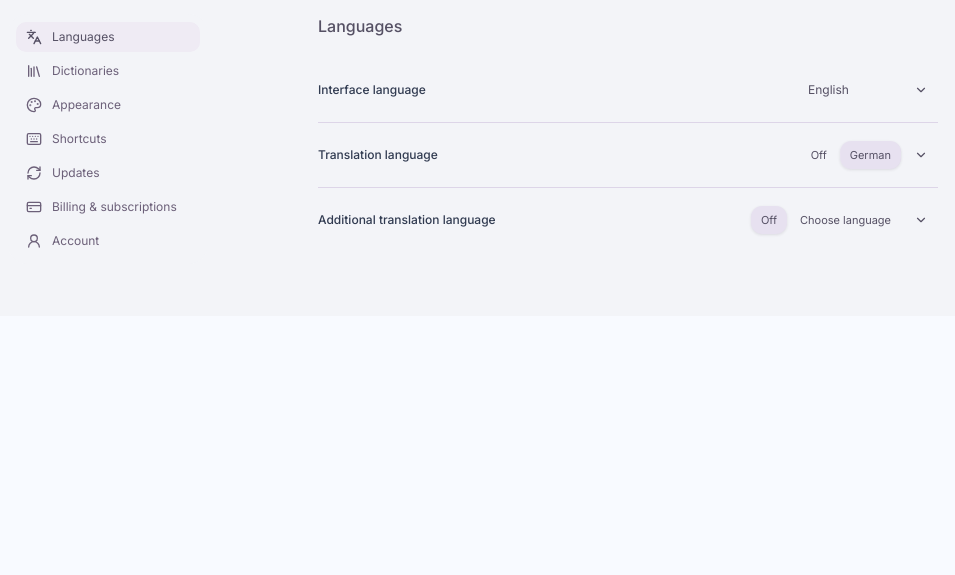
approved sections and accessible controls follow the en catalog
Expected: the button with aria-label "Interface language" is shown, [798,76,938,104]
What coordinates should you click on to do the following:
click the button "Shortcuts"
I would click on:
 (108, 139)
Its box is [16,124,200,154].
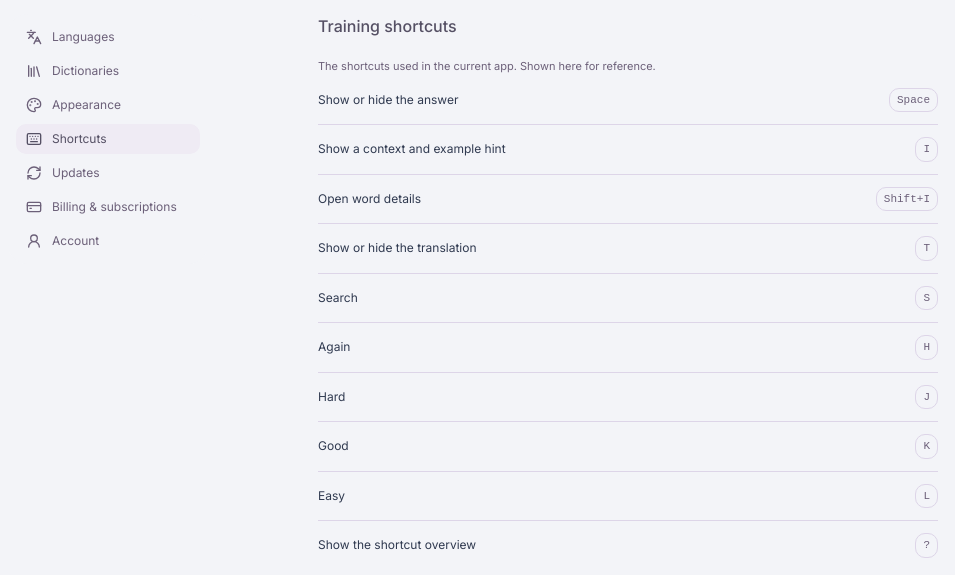
Now the heading "Training shortcuts" is shown, box [318,16,457,36]
